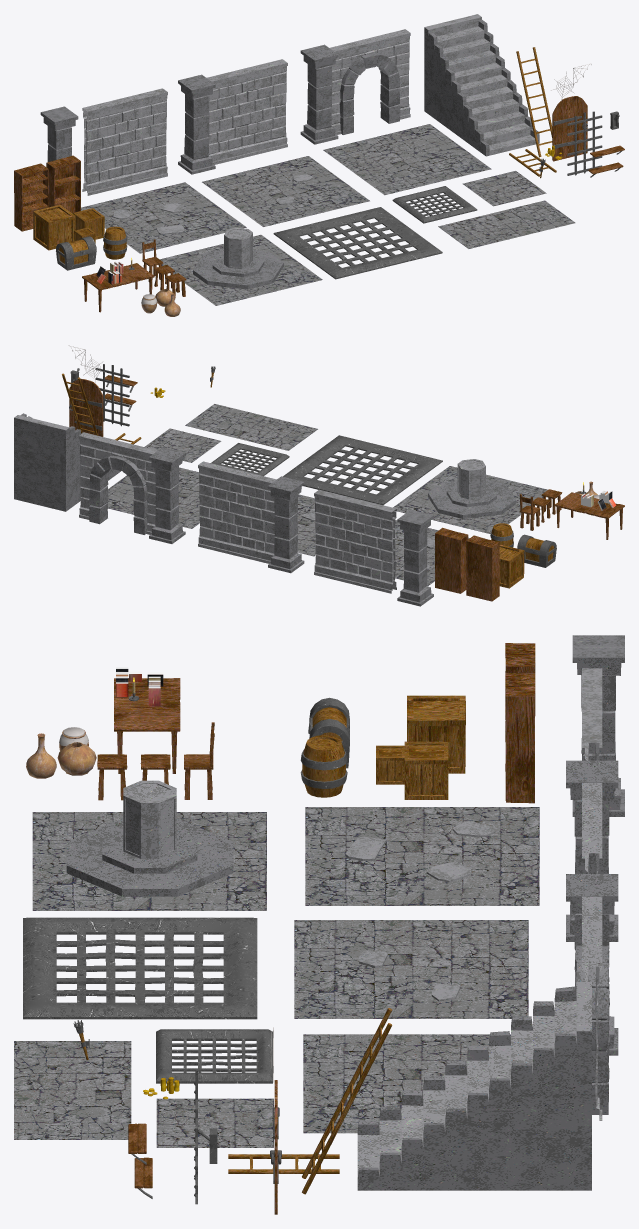
Rendered from ModularDungeonComplete.gltf.
3 views of the same model, one above another, from view 1: azimuth 30°, elevation 25°; view 2: azimuth 150°, elevation 25°; view 3: azimuth 270°, elevation 25° (orthographic). The views are drawn at different scales.
Visible parts, largest first — view 1: Stairs, Wall, Doorway, BaseWall, Altar, Floor1, Floor2, Floor3, Grille, Half_Floor1, BookShelf, Door (+12 smaller); view 2: Wall, Doorway, BaseWall, Altar, Stairs, Grille, Half_Floor1, BasePillar, BookShelf, Floor1, BookShelf2, Door (+12 smaller); view 3: Stairs, Altar, Floor3, Floor2, Grille, Half_Floor1, Floor1, Doorway, GrilleSmall, Quarter_floor, Wall, BookShelf2 (+15 smaller).
Part boxes in pixels (box(x1,y1,x2,y2)): Stairs: box(424, 14, 539, 156); Wall: box(178, 59, 287, 174); Doorway: box(300, 29, 410, 144); BaseWall: box(82, 88, 167, 195); Altar: box(160, 227, 322, 305); Floor1: box(323, 124, 491, 195); Floor2: box(202, 156, 369, 226); Floor3: box(81, 182, 246, 253); Grille: box(273, 207, 442, 279); Half_Floor1: box(438, 200, 575, 248); BookShelf: box(14, 163, 48, 231); Door: box(552, 96, 587, 161); Wall: box(198, 461, 304, 573); Doorway: box(79, 432, 185, 543); BaseWall: box(314, 489, 396, 593); Altar: box(393, 459, 547, 533); Stairs: box(14, 413, 120, 511); Grille: box(283, 435, 442, 505); Half_Floor1: box(185, 404, 317, 450); BasePillar: box(397, 510, 433, 606); BookShelf: box(466, 535, 499, 601); Floor1: box(108, 467, 199, 528); BookShelf2: box(435, 527, 468, 593); Door: box(69, 378, 103, 436); Stairs: box(357, 982, 591, 1190); Altar: box(32, 780, 266, 910); Floor3: box(305, 807, 539, 905); Floor2: box(294, 920, 528, 1018); Grille: box(23, 917, 257, 1019); Half_Floor1: box(14, 1041, 131, 1139); Floor1: box(303, 1034, 510, 1133); Doorway: box(566, 874, 618, 1120); GrilleSmall: box(156, 1029, 272, 1083); Quarter_floor: box(156, 1098, 273, 1147); Wall: box(566, 760, 618, 941); BookShelf2: box(505, 673, 535, 803).
Size of the model in its own units: 20.35 by 3.23 by 10.43.
14 materials, 12 textured.
